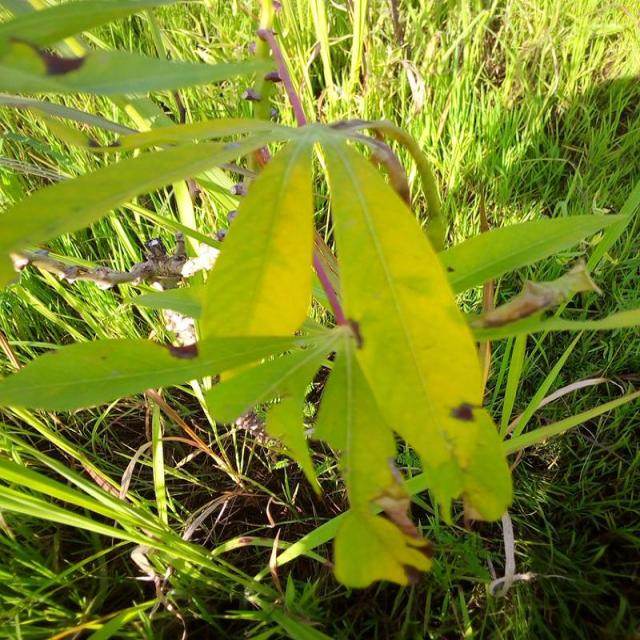cassava leaf: (314, 119, 514, 527), (197, 123, 315, 372)
